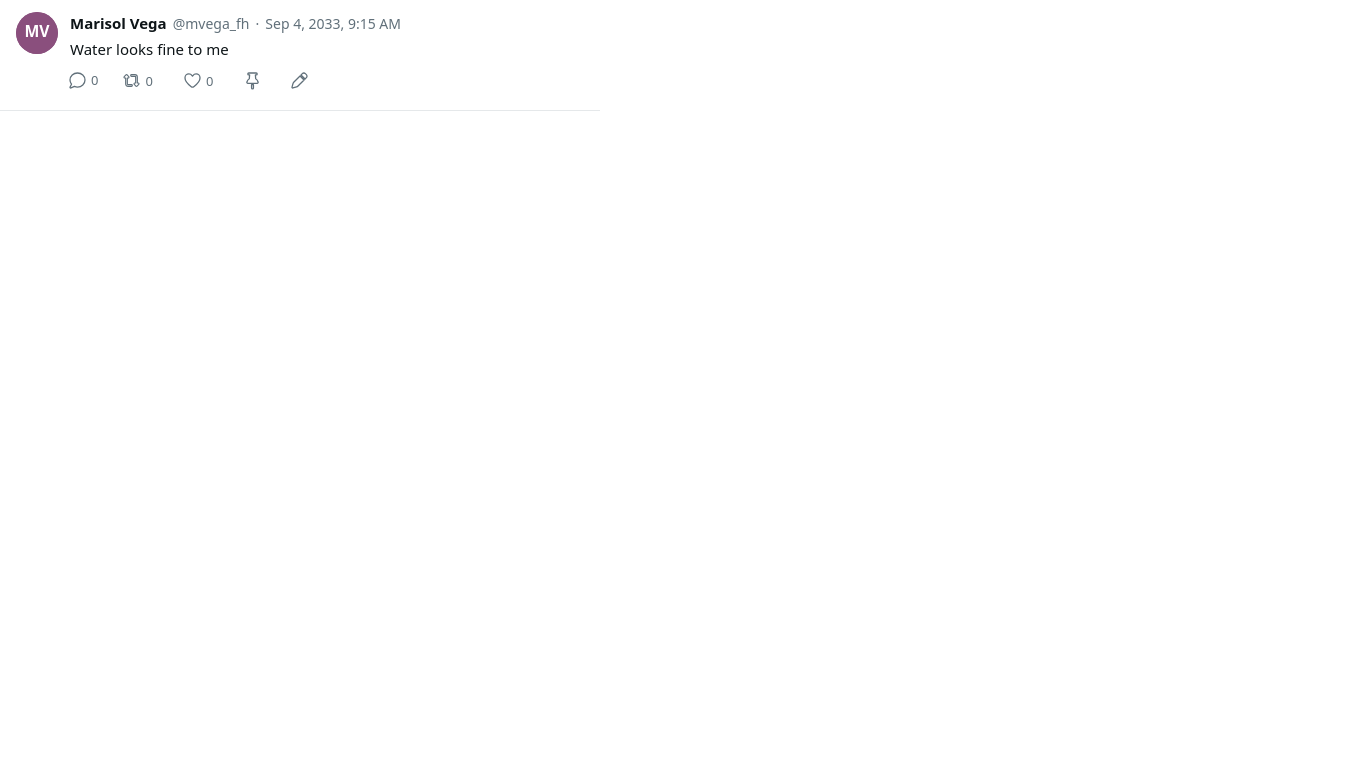
Test case: Edit dialog › Cancel closes without a change
The image size is (1366, 768).
Click the button named "Edit post": click(300, 80) [286, 69, 313, 92]
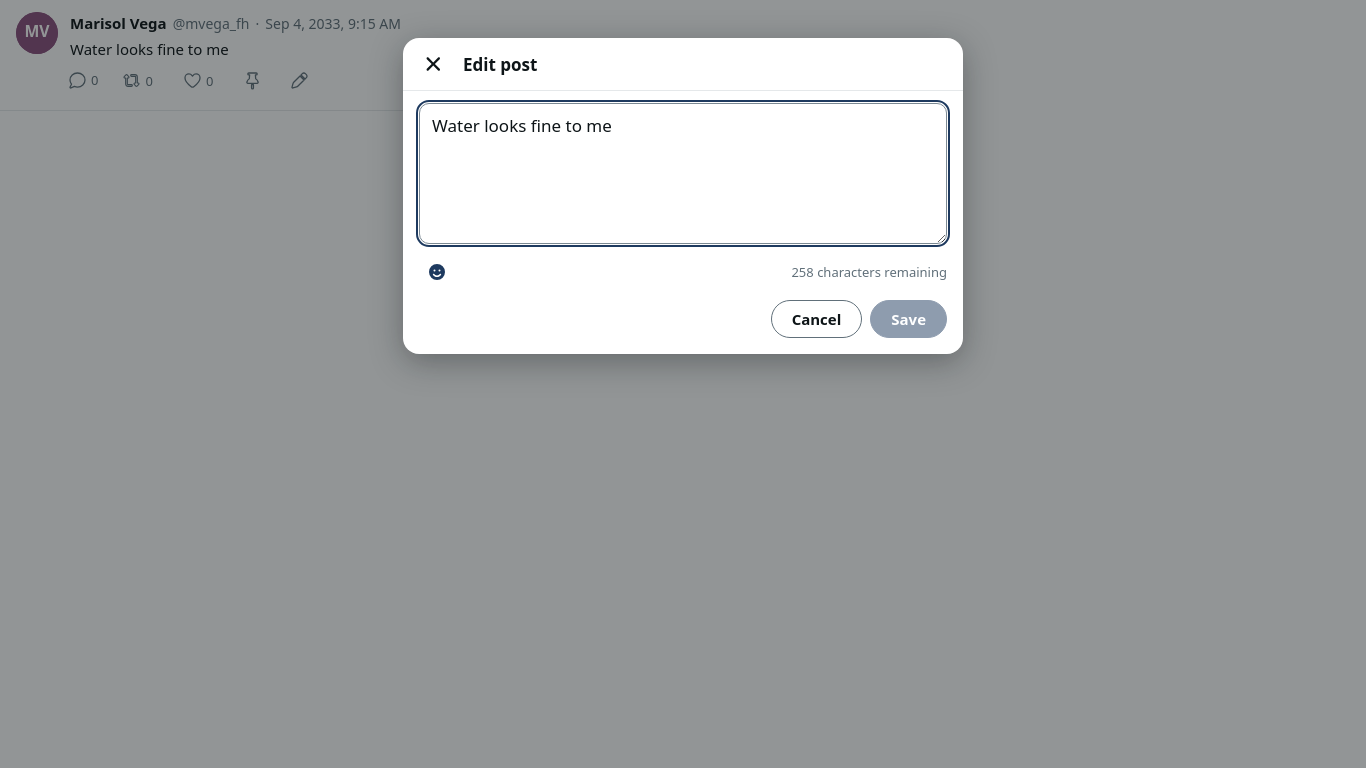
In the text box named "Post text": (683, 174) [419, 103, 947, 244], type " more"
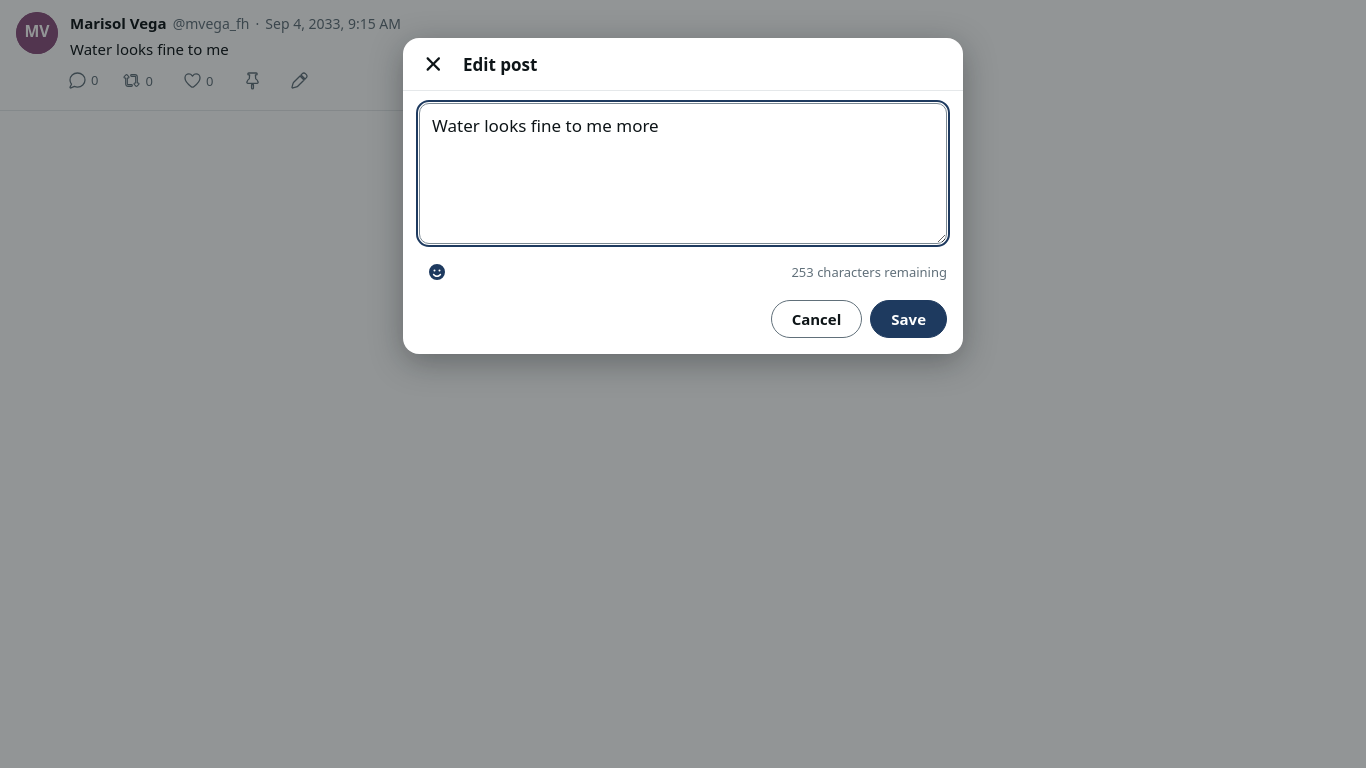
Click the button "Cancel": click(816, 319) [771, 300, 862, 338]
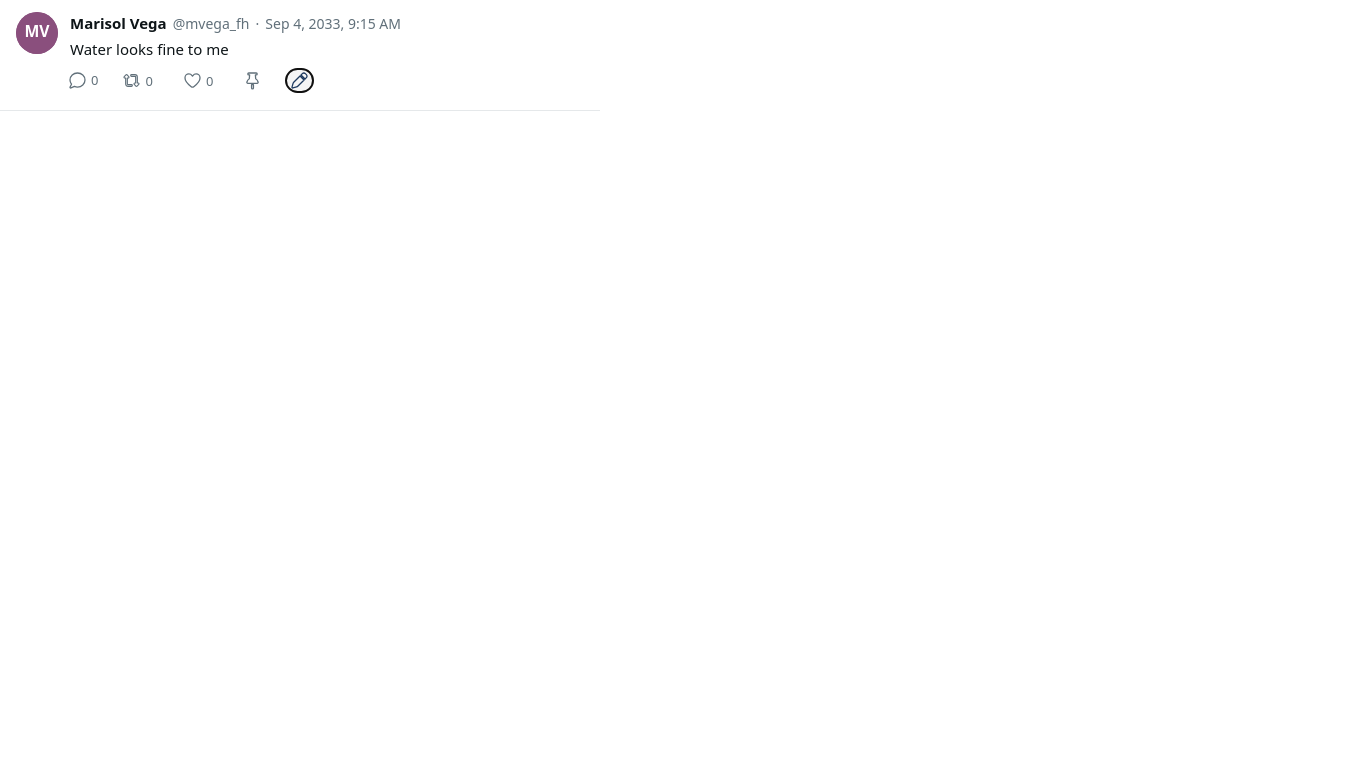
Expected: the text "Water looks fine to me" is shown, [70, 38, 229, 58]
Now the dialog is gone
